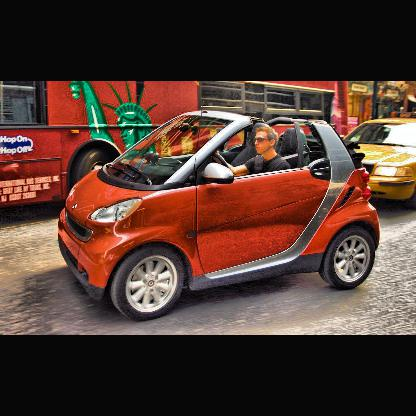smart fortwo Convertible 2012: (58, 110, 382, 319)
